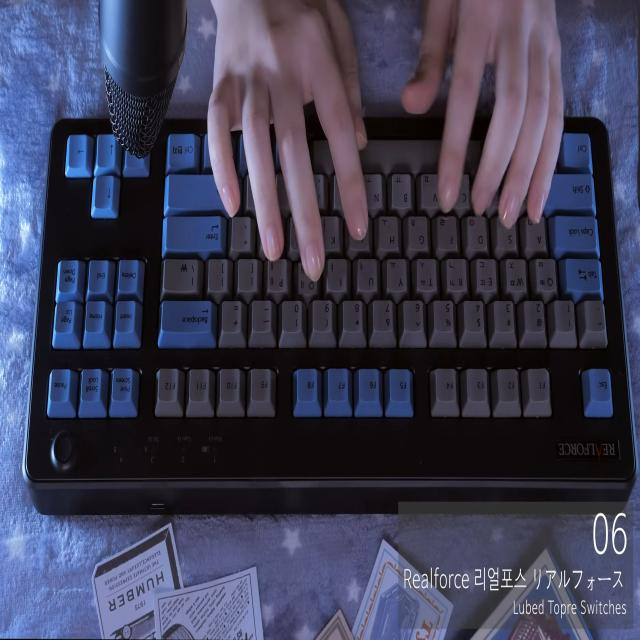keyboard-with-hands: (28, 121, 630, 475)
